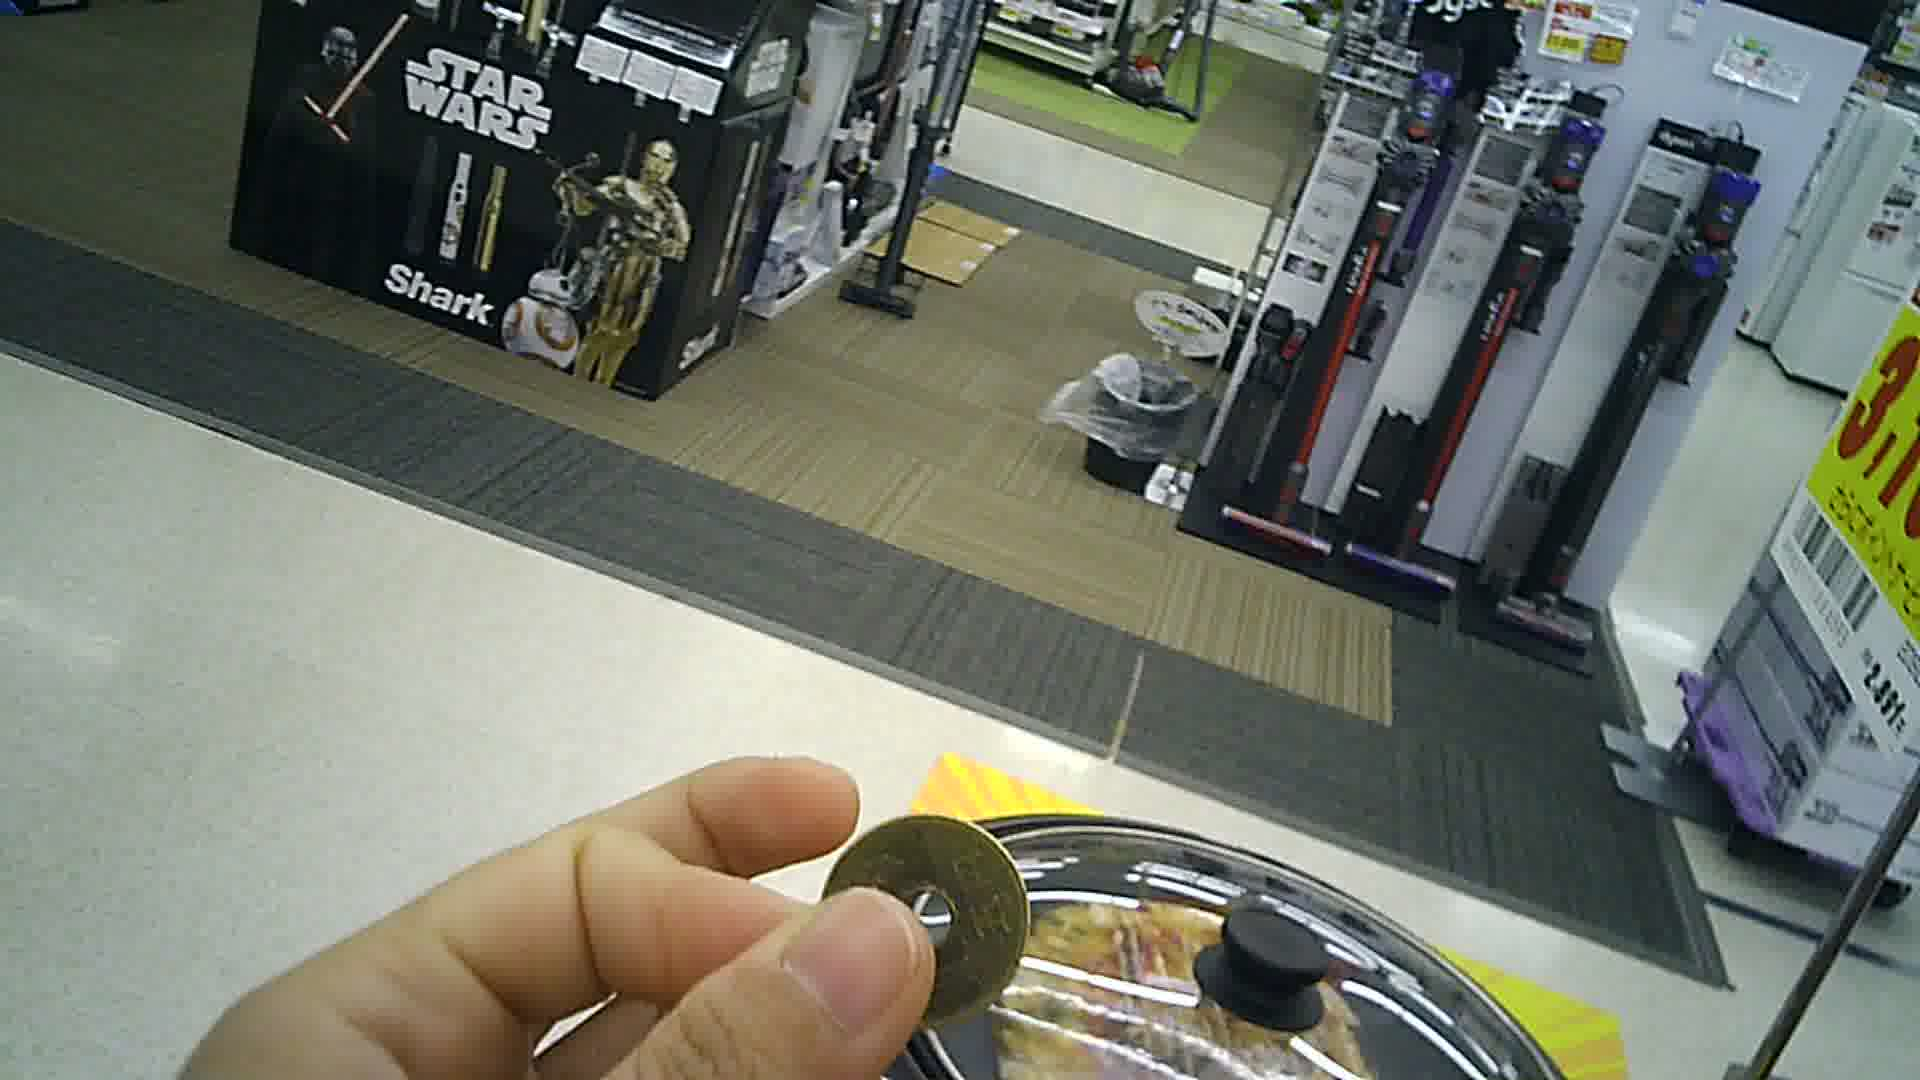5 Yen: (814, 807, 1044, 1034)
